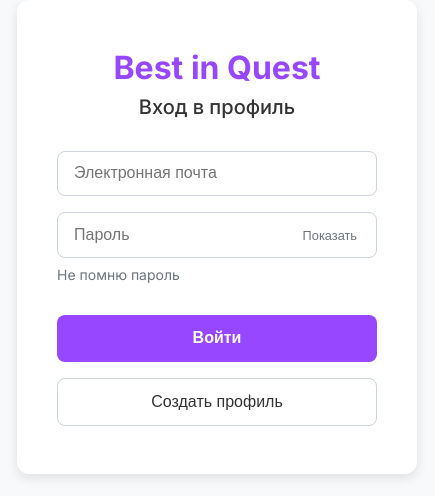
it: LoginPage › toggles password visibility
Нажимаем кнопку показать пароль
Step 1. Click the button "Показать" → (330, 235), box [299,224,361,246]
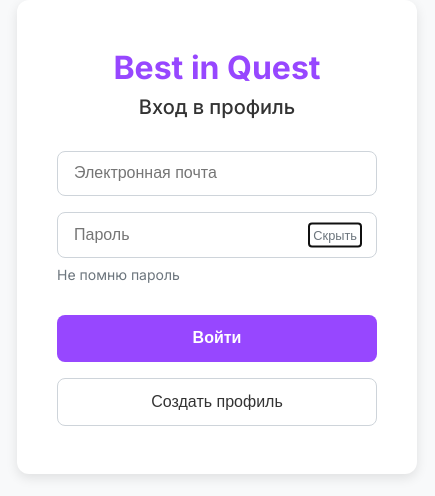
Expected: the button "Показать" reads "Скрыть"
Нажимаем кнопку скрыть пароль
Step 2. Click the button "Показать" → (335, 235), box [309,224,361,246]
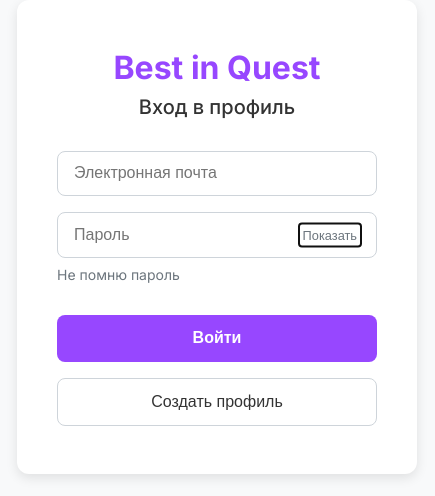
Expected: the button "Показать" is shown, [299,224,361,246]
